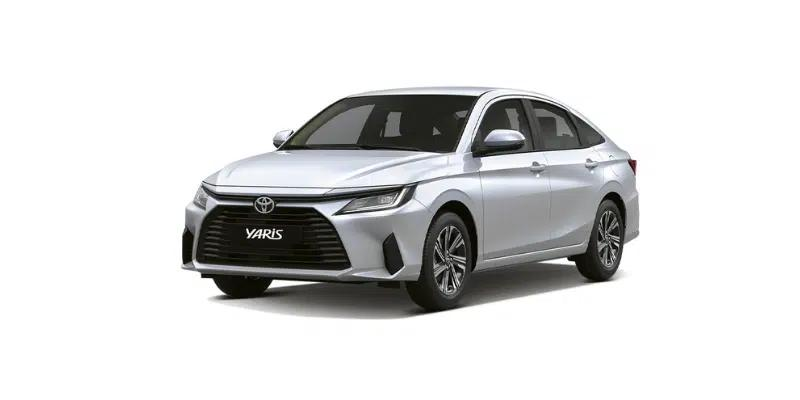car: (177, 86, 650, 319)
